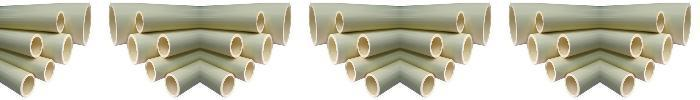pipe: (309, 6, 317, 43), (283, 6, 291, 43), (483, 6, 491, 43), (109, 6, 117, 43), (509, 6, 517, 43), (83, 6, 91, 43), (683, 6, 691, 43), (365, 75, 379, 96), (221, 75, 235, 96), (421, 75, 435, 96), (165, 75, 179, 96), (565, 75, 579, 96), (21, 75, 35, 96), (621, 75, 635, 96), (328, 36, 338, 62), (262, 36, 272, 62), (462, 36, 472, 62), (128, 36, 138, 62), (528, 36, 538, 62), (62, 36, 72, 62), (662, 36, 672, 62), (358, 36, 370, 56), (230, 36, 242, 56), (430, 36, 442, 56), (158, 36, 170, 56), (558, 36, 570, 56), (30, 36, 42, 56), (630, 36, 642, 56), (346, 61, 355, 80), (245, 61, 254, 80), (445, 61, 454, 80), (146, 61, 155, 80), (546, 61, 555, 80), (45, 61, 54, 80), (645, 61, 654, 80), (336, 12, 343, 31), (257, 12, 264, 31), (457, 12, 464, 31), (136, 12, 143, 31), (536, 12, 543, 31), (57, 12, 64, 31), (657, 12, 664, 31)
